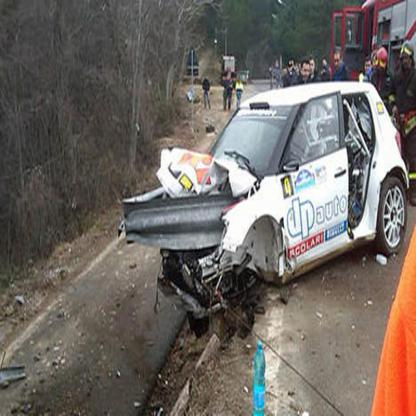face: (303, 66, 310, 82), (380, 58, 388, 72), (404, 54, 410, 70), (335, 56, 341, 70), (309, 62, 315, 75), (366, 61, 371, 73), (324, 61, 327, 68), (290, 66, 293, 72)
